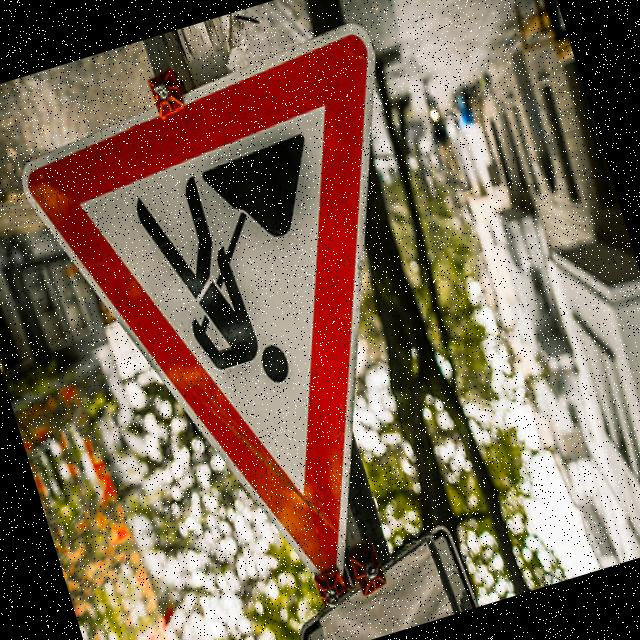road_work: (9, 17, 523, 638)
